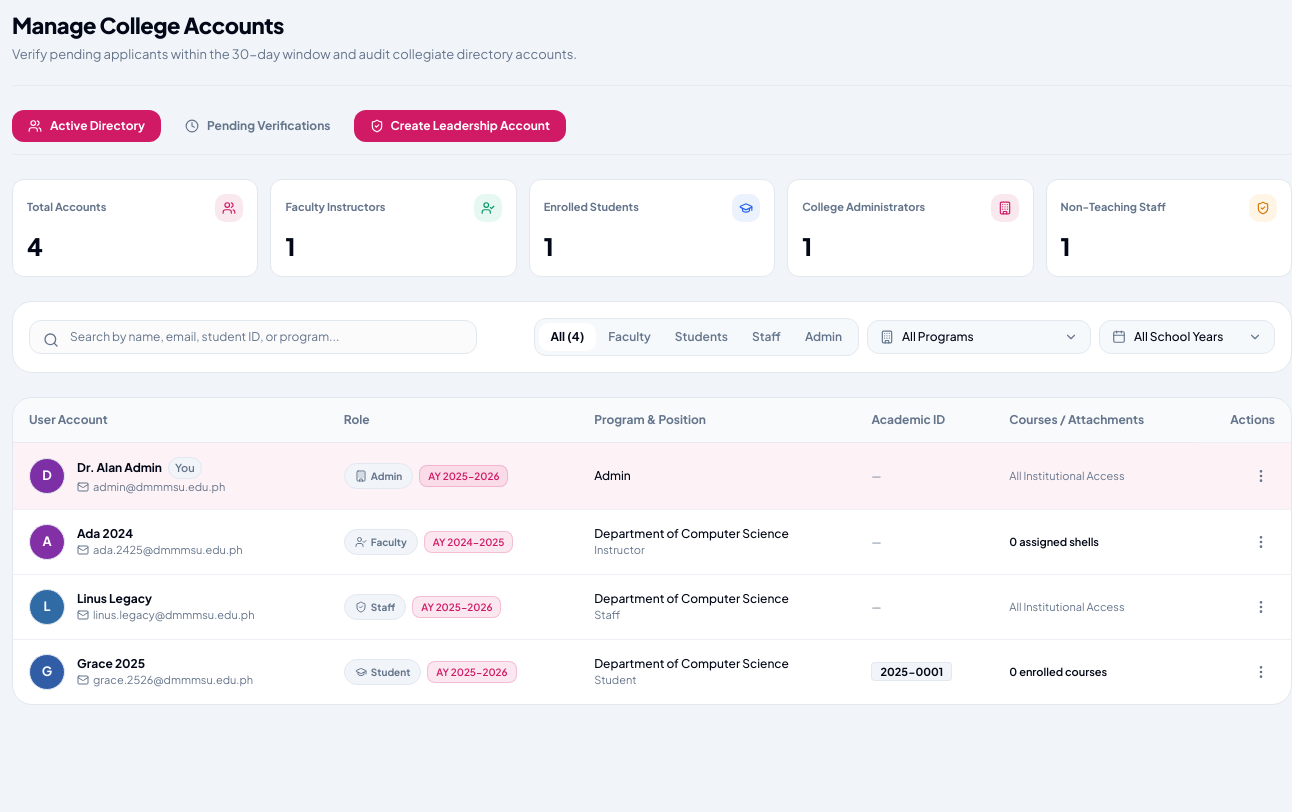
ManageAccountsPage - School Year Tagging & Filtering › filters directory accounts when a specific school year is selected
The width and height of the screenshot is (1292, 812).
Expected: the text "Ada 2024" is shown, [77, 526, 133, 542]
Expected: the text "Grace 2025" is shown, [77, 656, 145, 672]
Open School Year dropdown
Click the button "All School Years" at (1187, 337), box [1099, 320, 1275, 354]
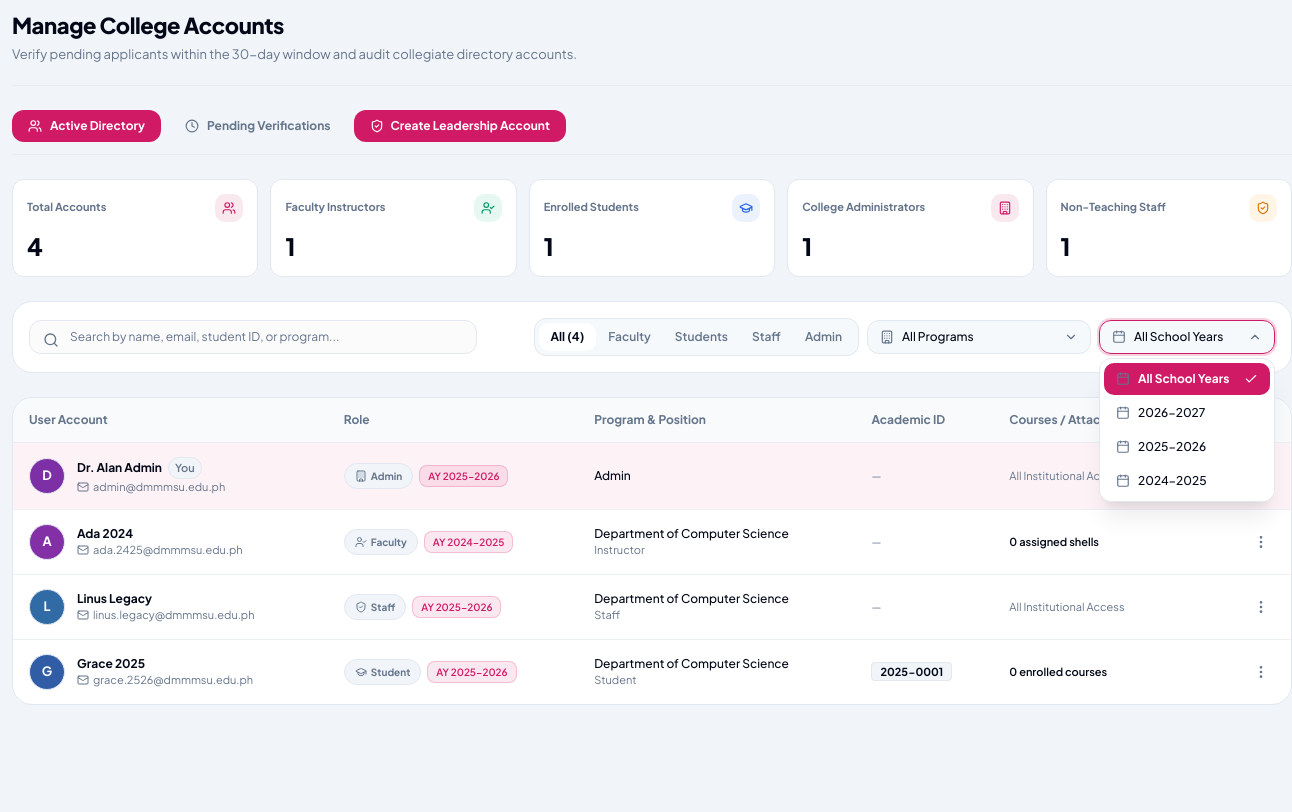
Click 2024-2025 option
Click the option "2024-2025" at (1187, 481), box [1104, 465, 1270, 497]
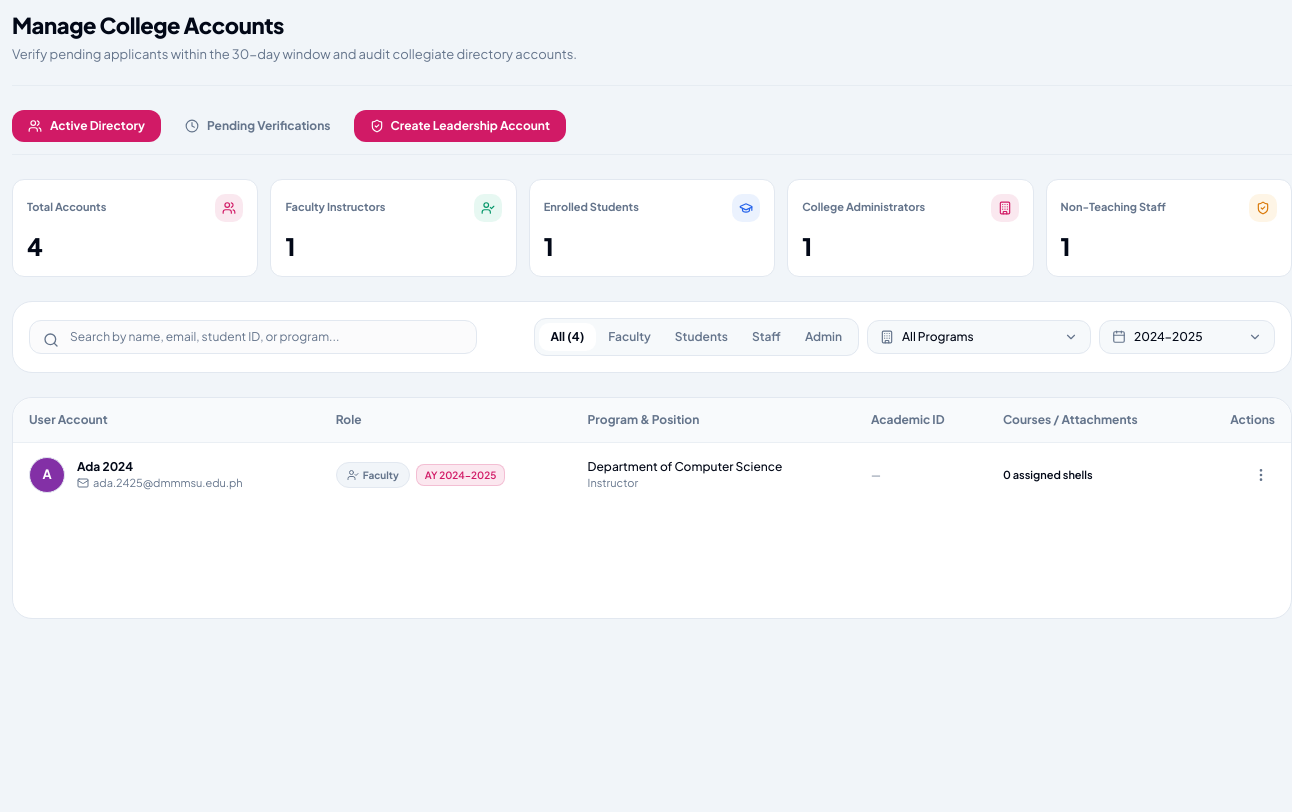
Expected: the text "Ada 2024" is shown, [77, 459, 133, 475]
Result: the text "Grace 2025" is gone
Result: the text "Linus Legacy" is gone
